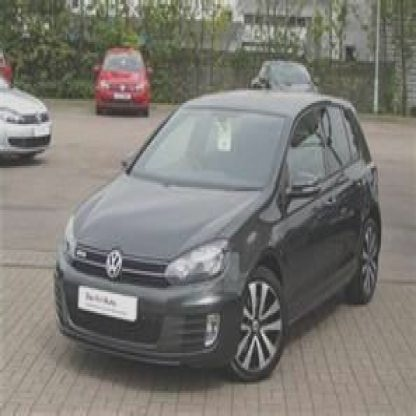Vehicle: (56, 80, 385, 384)
